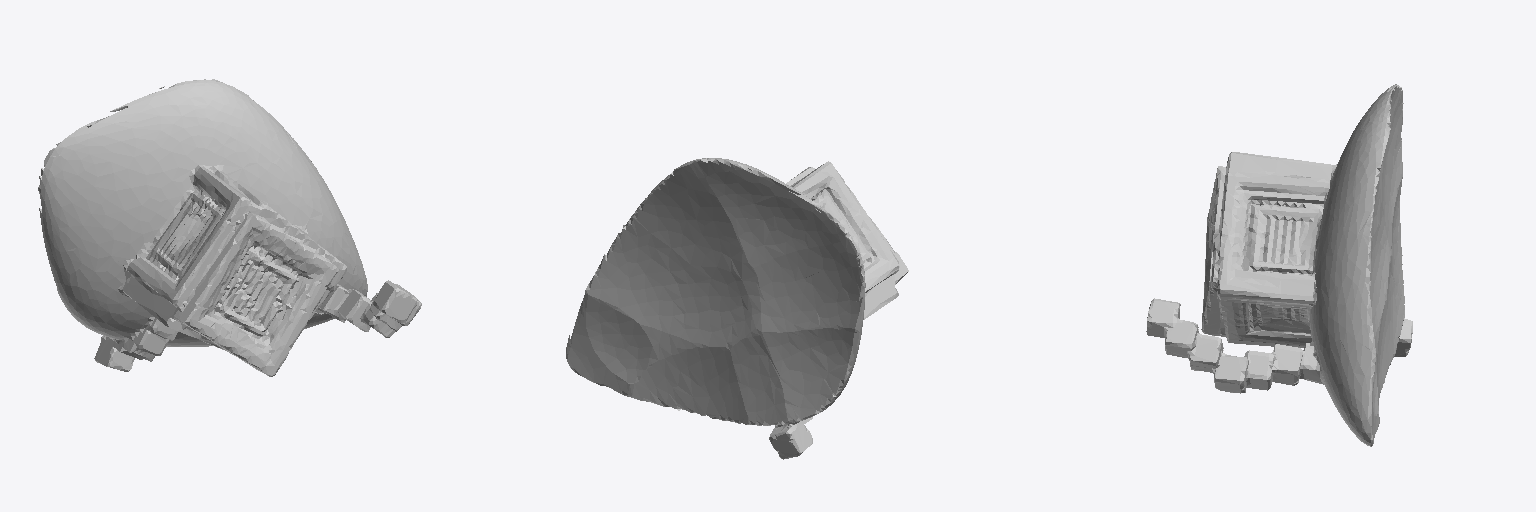
The model's file is housev.obj.
3 renders of one model, left to right at view 1: azimuth 30°, elevation 25°; view 2: azimuth 150°, elevation 25°; view 3: azimuth 270°, elevation 25°, orthographic.
Parts seen in each view (by area): view 1: Layer_1; view 2: Layer_1; view 3: Layer_1.
Part boxes in pixels (left/top/right/bottom): Layer_1: left=38, top=79, right=421, bottom=376; Layer_1: left=566, top=158, right=908, bottom=459; Layer_1: left=1146, top=84, right=1412, bottom=446.
Size of the model in its own units: 0.8615 by 0.7287 by 0.6364.